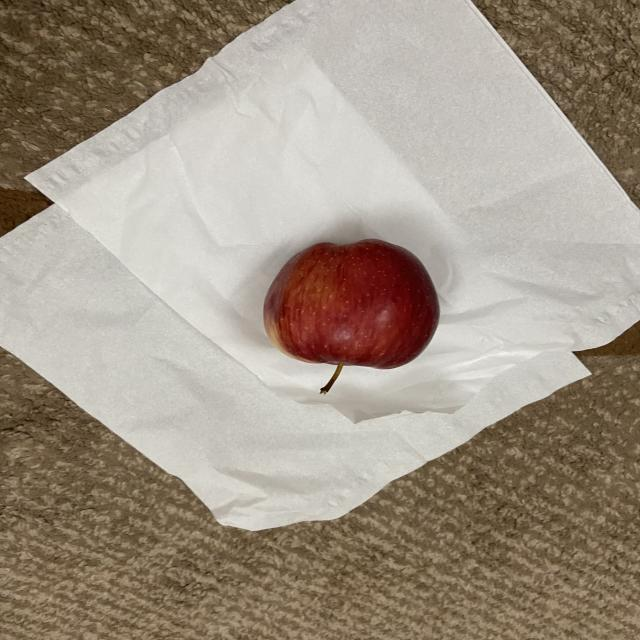apple: (263, 238, 443, 398)
